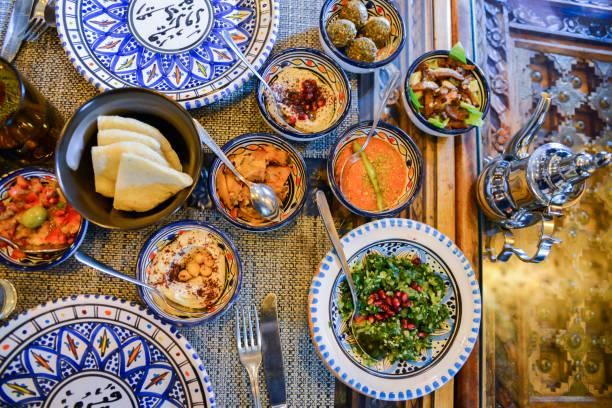Braised Crucian Carp: (304, 216, 479, 400), (55, 87, 202, 233), (134, 218, 245, 322), (0, 167, 94, 275), (210, 131, 308, 231), (327, 118, 425, 214), (402, 45, 497, 143), (255, 46, 348, 142), (319, 0, 405, 74)
